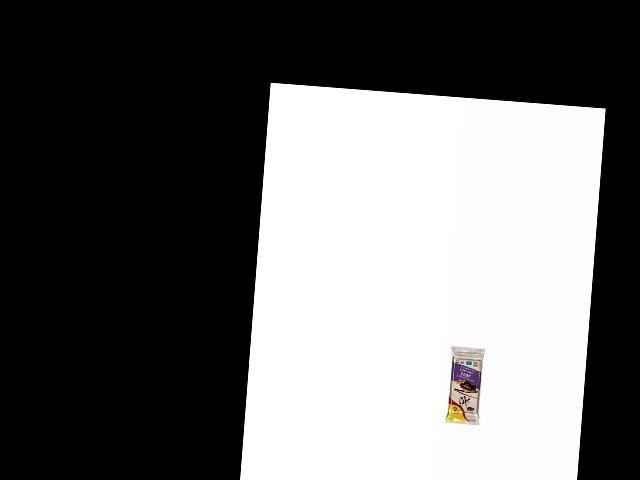chocolate: (443, 345, 488, 427)
